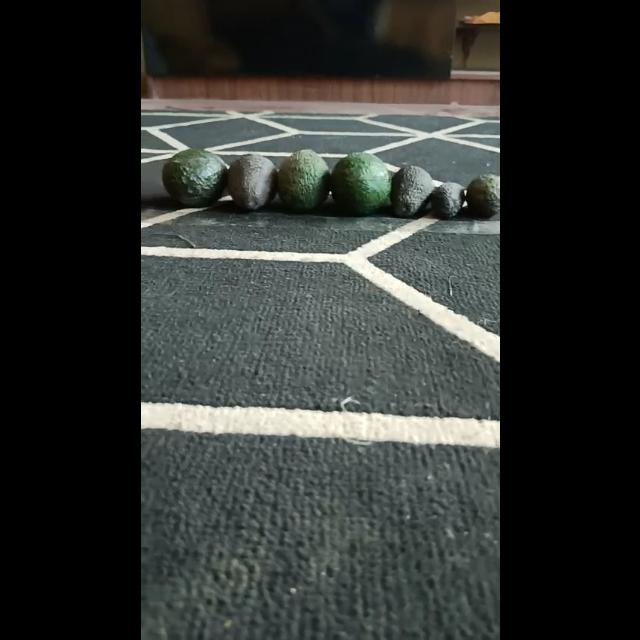Primera: (162, 148, 228, 208), (328, 152, 390, 215), (277, 148, 331, 212), (225, 152, 278, 212)
Segunda: (389, 165, 433, 217), (464, 173, 498, 219)
Tercera: (428, 182, 464, 220)
